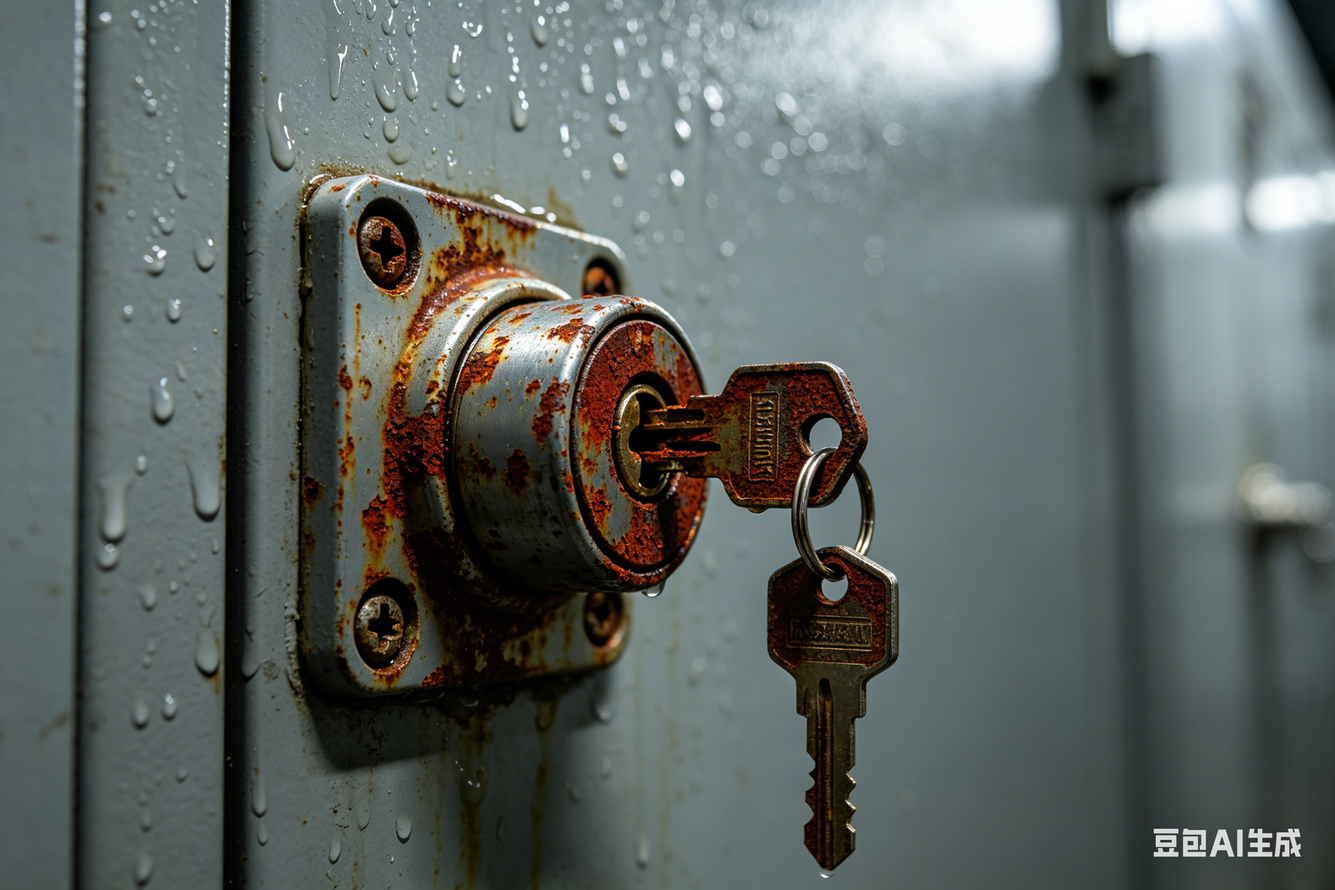BadLock: (574, 329, 693, 526)
